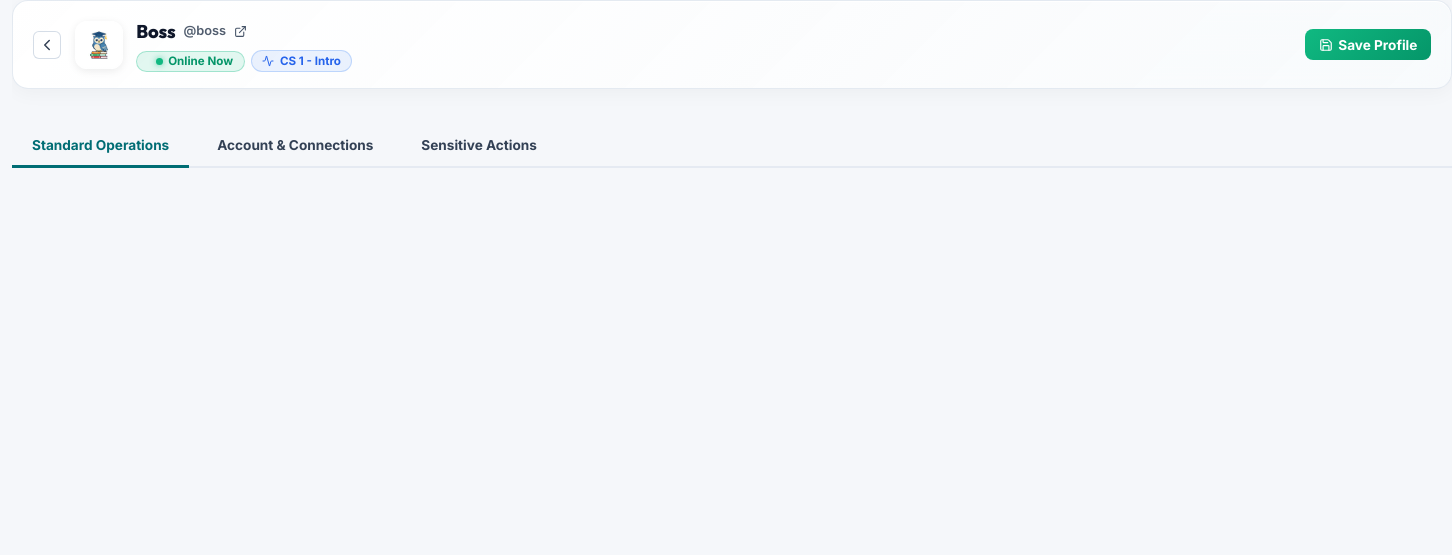
Test: AdminUserDashboard Component Redesign › administrator accounts › hides Delete Account for an administrator and shows the box checked
expect the text "@boss" is shown: met, box [183,22,226,42]
Click the button "Account & Connections" at (295, 147), box [197,125,393,168]
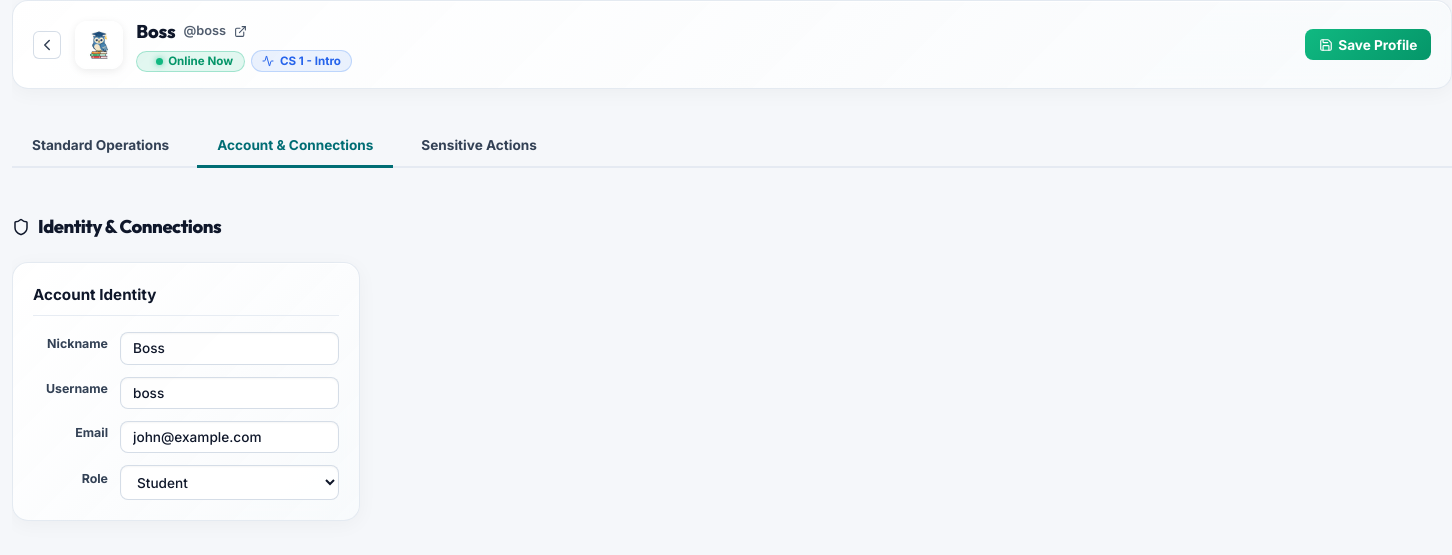
expect the field labelled "Username" holds "boss": met, box [120,377,339,409]
Click the button "Sensitive Actions" at (479, 147), box [401,125,557,168]
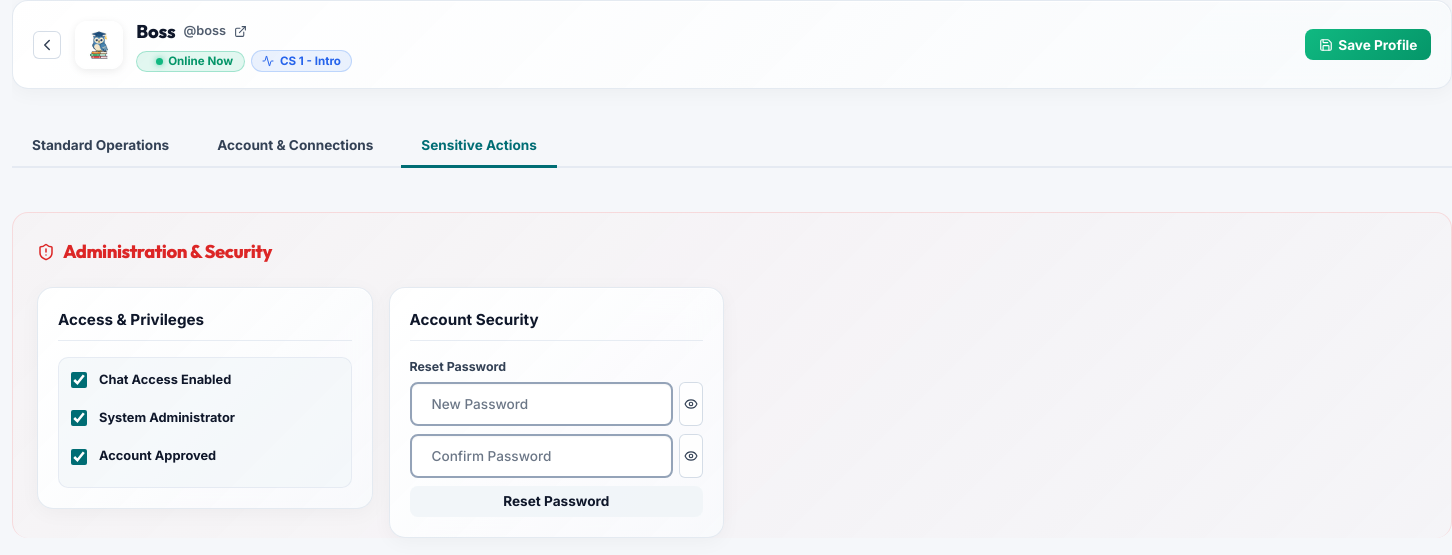
expect the checkbox labelled "System Administrator" is checked: met, box [71,410,87,426]
